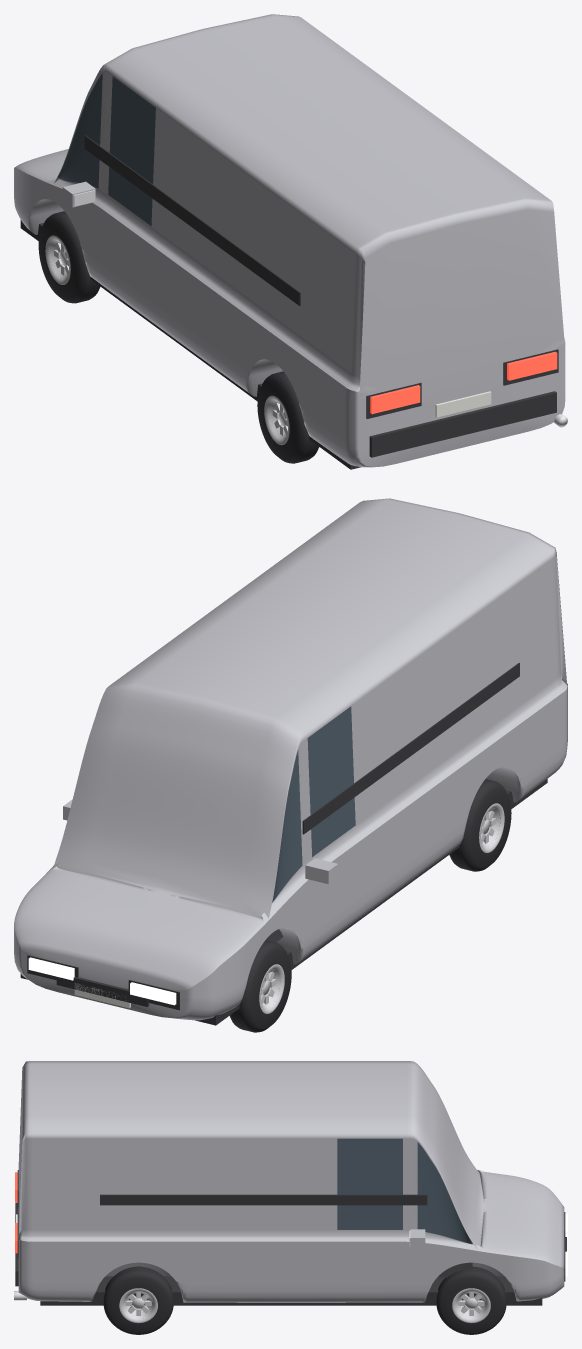
File: sprinteri.glb
The picture shows the model from 3 angles, top to bottom: view 1: azimuth 30°, elevation 25°; view 2: azimuth 150°, elevation 25°; view 3: azimuth 270°, elevation 25°; orthographic projection. The views are drawn at different scales.
Visible parts, largest first — view 1: body, wheel_rl, wheel_fl; view 2: body, wheel_fl, wheel_rl; view 3: body, wheel_rr, wheel_fr.
Boxes of the visible parts, x1,y1,x2,y2 form: body: [14, 14, 567, 469]; wheel_rl: [257, 371, 318, 463]; wheel_fl: [38, 211, 100, 303]; body: [14, 498, 567, 1025]; wheel_fl: [229, 940, 291, 1032]; wheel_rl: [449, 779, 511, 871]; body: [14, 1061, 567, 1305]; wheel_rr: [103, 1266, 173, 1334]; wheel_fr: [436, 1266, 506, 1334].
Size of the model in its own units: 2.51 by 2.5 by 5.99.
